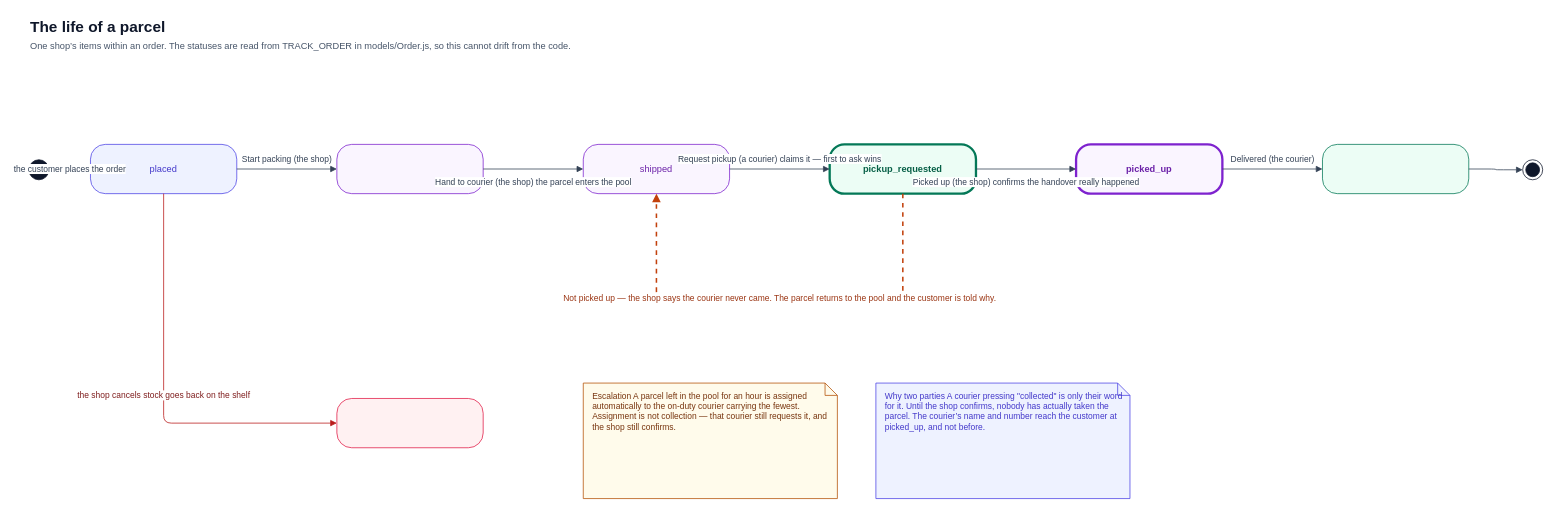
This 1556x512 diagram has some shape labels left out. The centre of each missing label's shape, as x and y in pixels:
"cancelled" belongs at (409,423).
"delivered" belongs at (1395,169).
"processing" belongs at (409,169).
